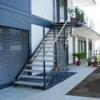stairs: (18, 16, 76, 87)
